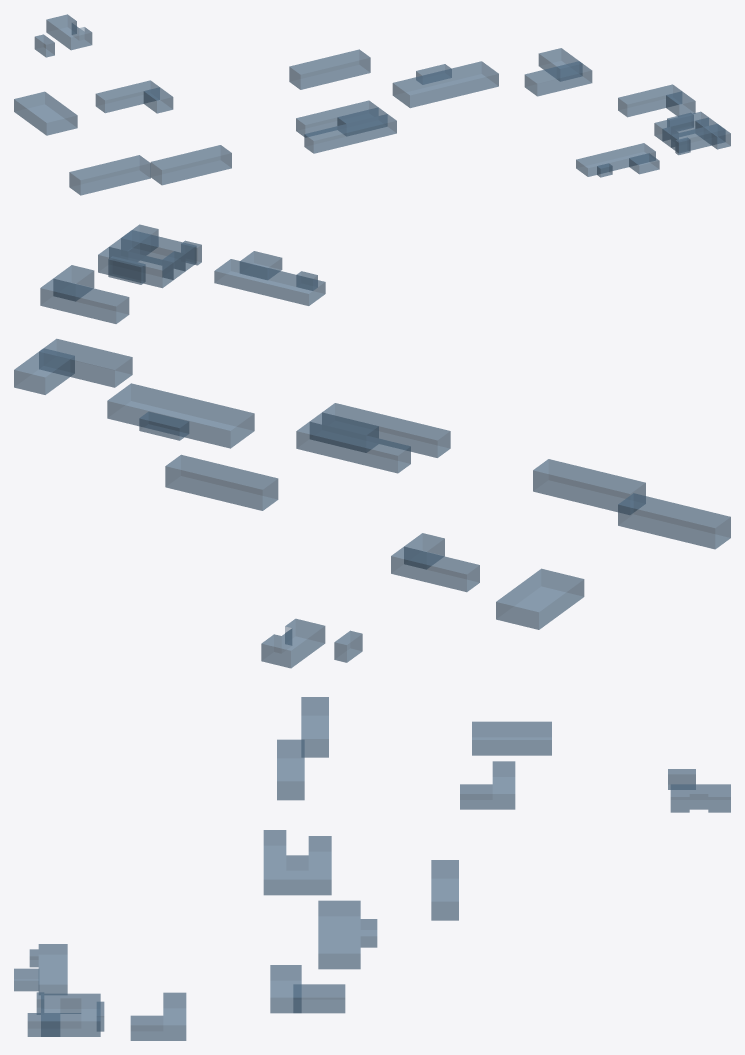
The model's file is gc_other.glb.
The picture shows the model from 3 angles, top to bottom: view 1: azimuth 30°, elevation 25°; view 2: azimuth 150°, elevation 25°; view 3: azimuth 270°, elevation 25°; orthographic projection. The views are drawn at different scales.
Parts seen in each view (by area): view 1: 立方体.018, 立方体.017, 立方体.023, 立方体.024, 立方体.035, 立方体.032, 立方体.028, 立方体.021, 立方体.034, 立方体.033, 立方体.022, 立方体.036 (+1 smaller); view 2: 立方体.018, 立方体.017, 立方体.023, 立方体.024, 立方体.035, 立方体.032, 立方体.028, 立方体.021, 立方体.034, 立方体.022, 立方体.033, 立方体.036 (+1 smaller); view 3: 立方体.018, 立方体.017, 立方体.023, 立方体.024, 立方体.034, 立方体.021, 立方体.022, 立方体.033, 立方体.028, 立方体.036, 立方体.035, 立方体.032 (+1 smaller).
Boxes of the visible parts, x1=… form: 立方体.018: x1=296, y1=100, x2=396, y2=153; 立方体.017: x1=392, y1=61, x2=498, y2=108; 立方体.023: x1=654, y1=111, x2=730, y2=155; 立方体.024: x1=524, y1=48, x2=592, y2=96; 立方体.035: x1=289, y1=49, x2=370, y2=89; 立方体.032: x1=69, y1=155, x2=150, y2=195; 立方体.028: x1=150, y1=145, x2=231, y2=185; 立方体.021: x1=576, y1=143, x2=659, y2=177; 立方体.034: x1=14, y1=91, x2=77, y2=135; 立方体.033: x1=95, y1=80, x2=173, y2=113; 立方体.022: x1=618, y1=84, x2=695, y2=117; 立方体.036: x1=46, y1=14, x2=92, y2=50; 立方体.018: x1=296, y1=403, x2=450, y2=473; 立方体.017: x1=107, y1=383, x2=254, y2=448; 立方体.023: x1=98, y1=224, x2=201, y2=288; 立方体.024: x1=14, y1=338, x2=132, y2=394; 立方体.035: x1=165, y1=454, x2=278, y2=510; 立方体.032: x1=618, y1=493, x2=730, y2=549; 立方体.028: x1=533, y1=459, x2=645, y2=514; 立方体.021: x1=214, y1=251, x2=325, y2=305; 立方体.034: x1=496, y1=568, x2=584, y2=629; 立方体.022: x1=40, y1=265, x2=129, y2=323; 立方体.033: x1=391, y1=533, x2=479, y2=592; 立方体.036: x1=261, y1=618, x2=325, y2=668; 立方体.018: x1=263, y1=830, x2=331, y2=895; 立方体.017: x1=318, y1=900, x2=377, y2=969; 立方体.023: x1=27, y1=992, x2=104, y2=1036; 立方体.024: x1=270, y1=965, x2=345, y2=1013; 立方体.034: x1=472, y1=721, x2=551, y2=755; 立方体.021: x1=14, y1=944, x2=67, y2=994; 立方体.022: x1=130, y1=992, x2=186, y2=1040; 立方体.033: x1=460, y1=761, x2=515, y2=809; 立方体.028: x1=277, y1=739, x2=304, y2=800; 立方体.036: x1=670, y1=784, x2=730, y2=812; 立方体.035: x1=431, y1=860, x2=458, y2=920; 立方体.032: x1=301, y1=697, x2=328, y2=757.
Size of the model in its own units: 155 by 4.28 by 145.
